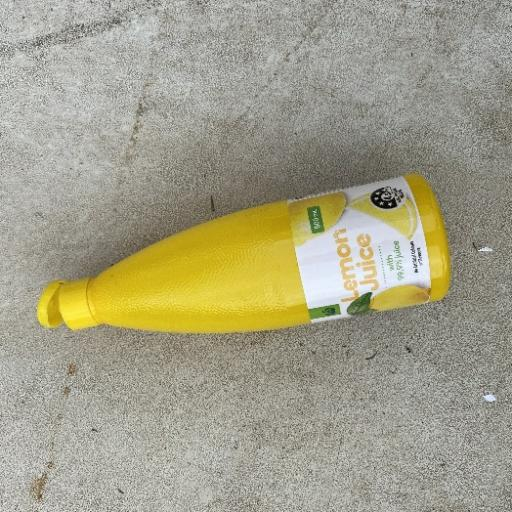Plastic: (34, 170, 454, 337)
